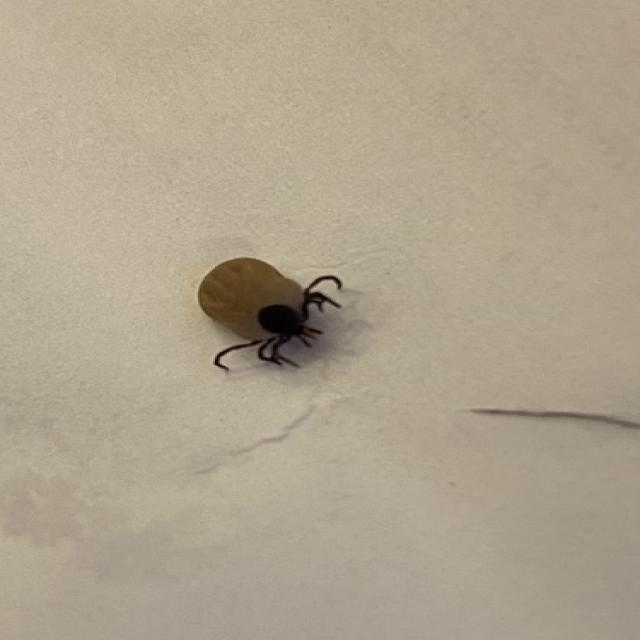Ixodes Ricinus-F-Fed: (195, 257, 346, 371)
